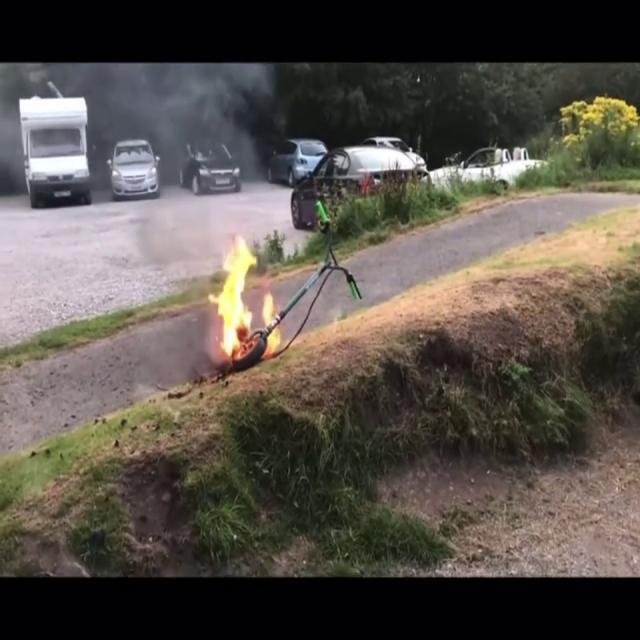Fire: (208, 236, 264, 360)
Smoke: (110, 65, 270, 224)
